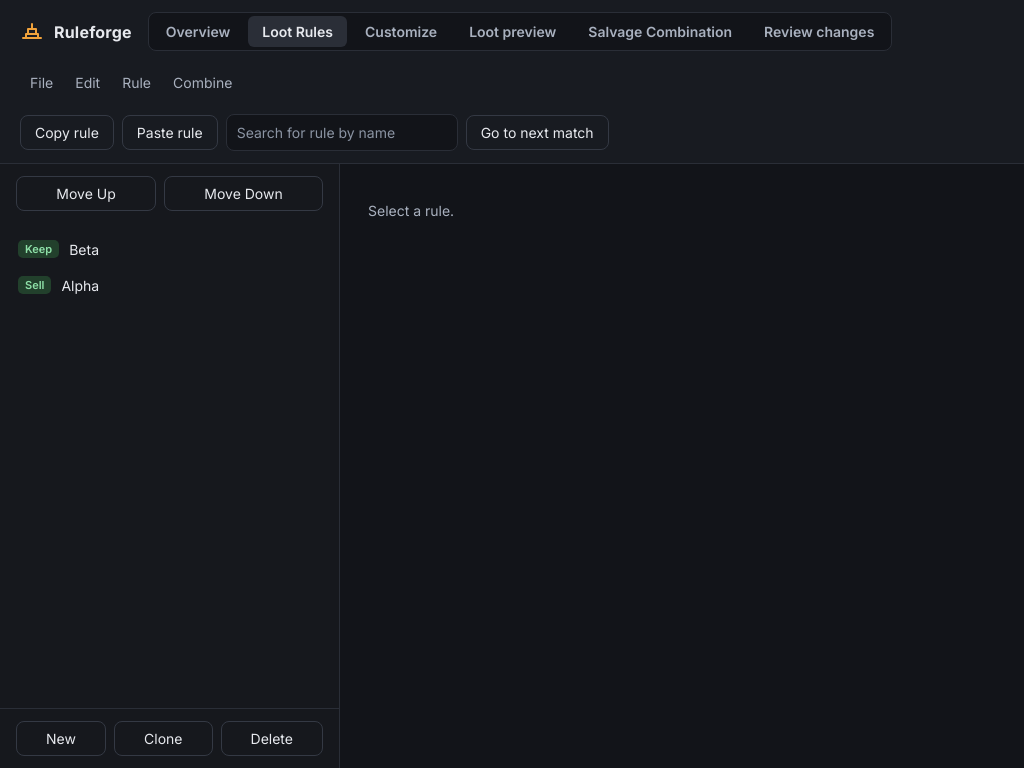
Test: App menus › Cancel in a dialog closes it and leaves the profile alone
Click the button "Rule". click: {"x": 137, "y": 82}
box: [112,67,161,98]
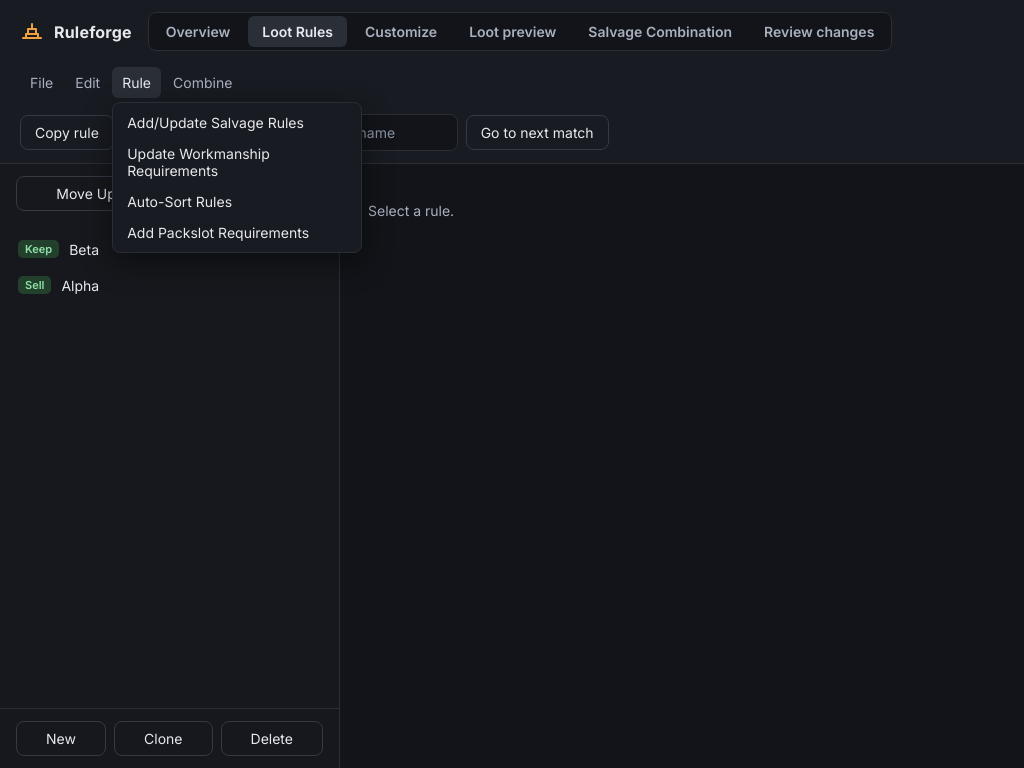
Click the button "Add Packslot Requirements". click: {"x": 237, "y": 232}
box: [117,217,357,248]
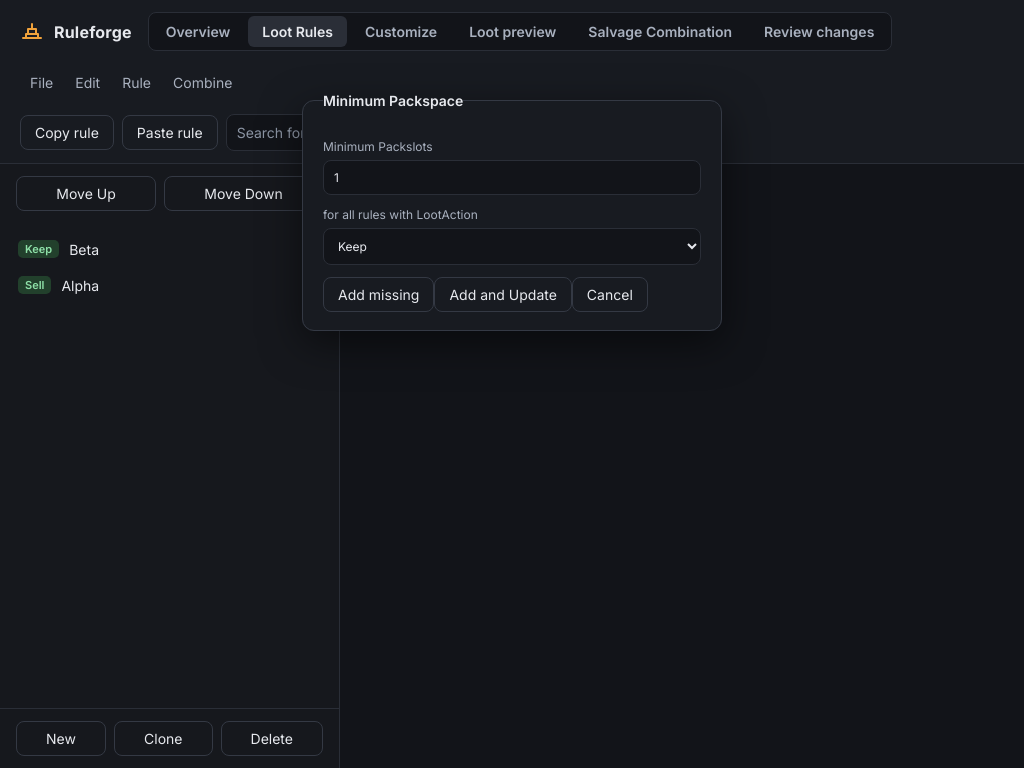
Click the button "Cancel". click: {"x": 610, "y": 295}
box: [572,277,648,312]
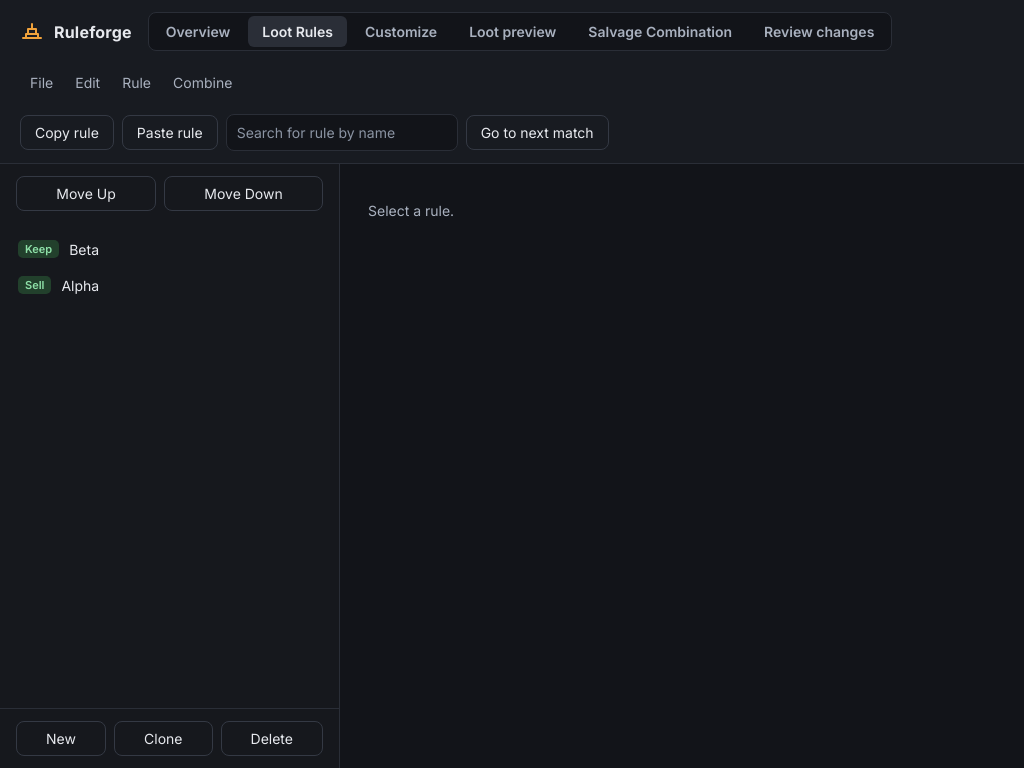
Expected: the dialog is gone
